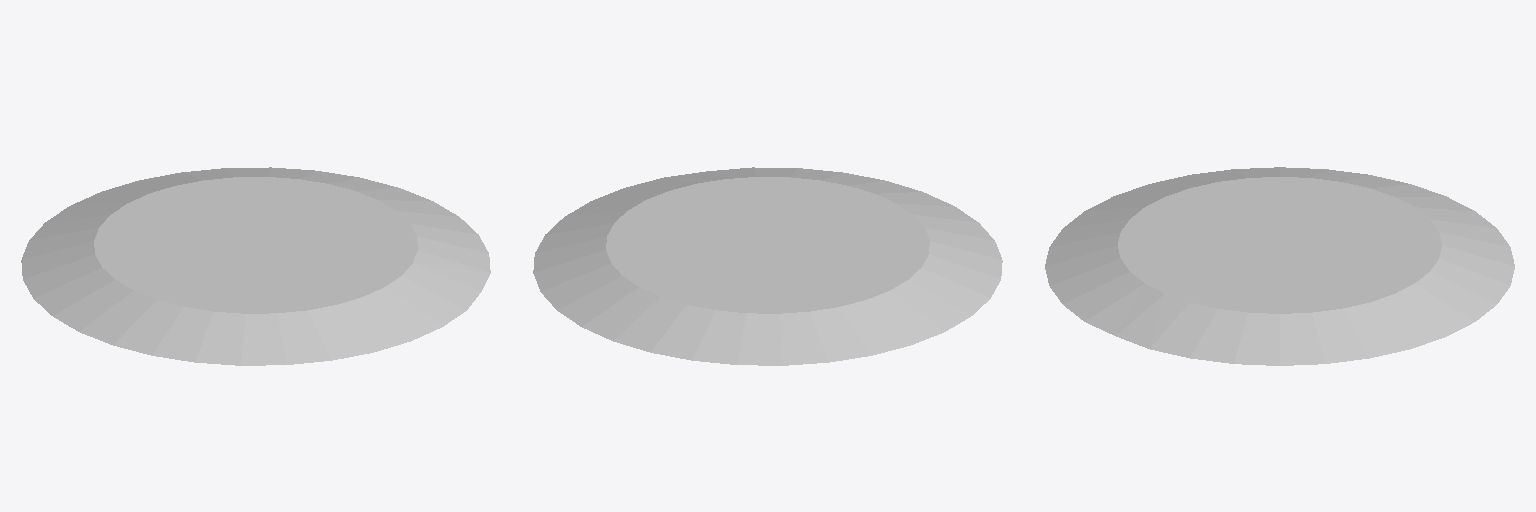
The model's file is Platform4.obj.
3 renders of one model, left to right at view 1: azimuth 30°, elevation 25°; view 2: azimuth 150°, elevation 25°; view 3: azimuth 270°, elevation 25°, orthographic.
Parts seen in each view (by area): view 1: Cylinder; view 2: Cylinder; view 3: Cylinder.
Boxes of the visible parts, x1=… form: Cylinder: x1=21, y1=167, x2=490, y2=365; Cylinder: x1=533, y1=167, x2=1002, y2=365; Cylinder: x1=1045, y1=167, x2=1514, y2=365.
Bounding box in the file's own units: 40 × 2 × 40.